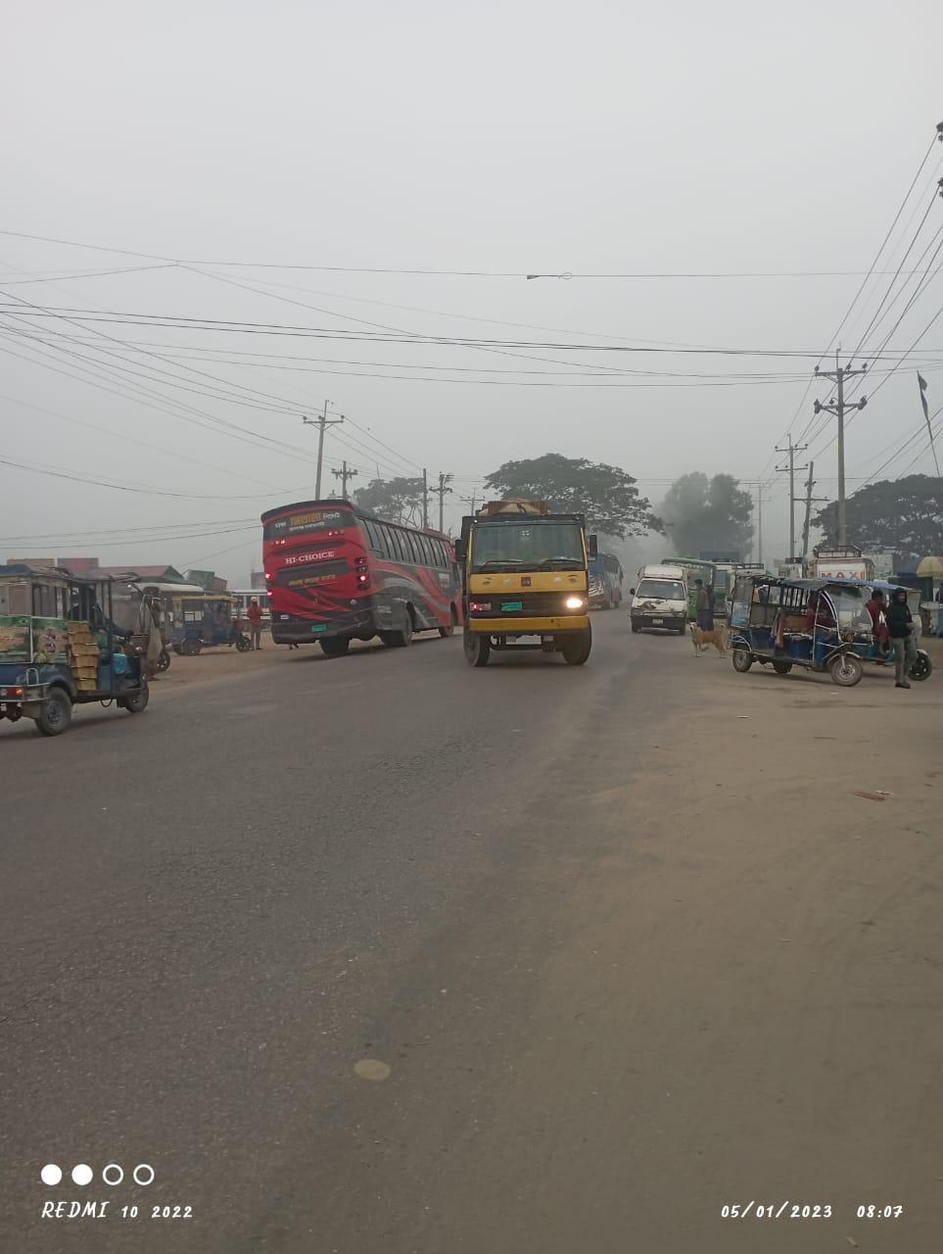Bus: (247, 497, 462, 651)
Car: (1, 560, 166, 728), (722, 559, 867, 706), (170, 588, 252, 667), (625, 561, 691, 636)
Truck: (448, 494, 601, 667)
